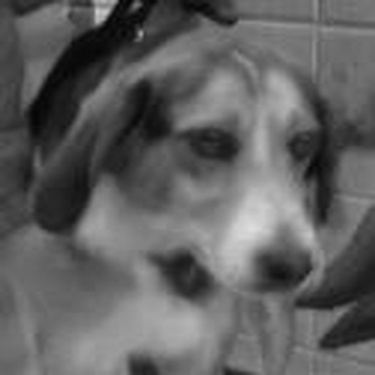dog: (1, 23, 347, 372)
